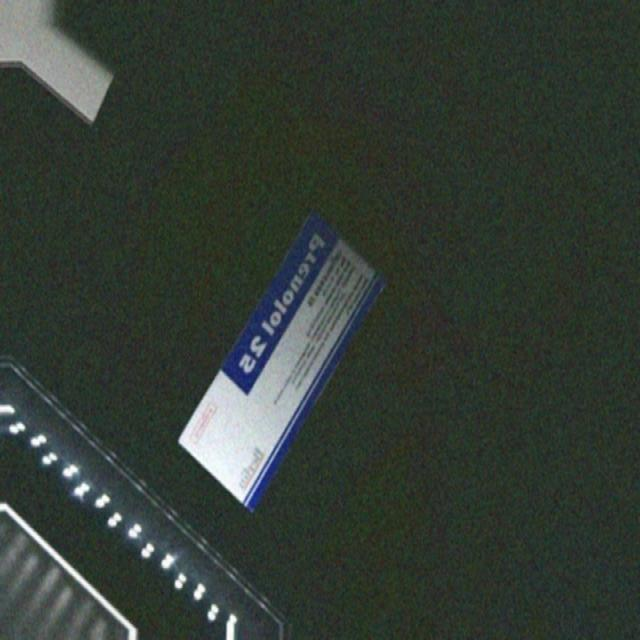prenolol: (178, 211, 385, 509)
